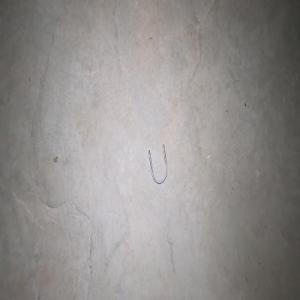ClampPart: (148, 143, 167, 184)
